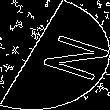N_NW: (12, 27, 98, 83)
